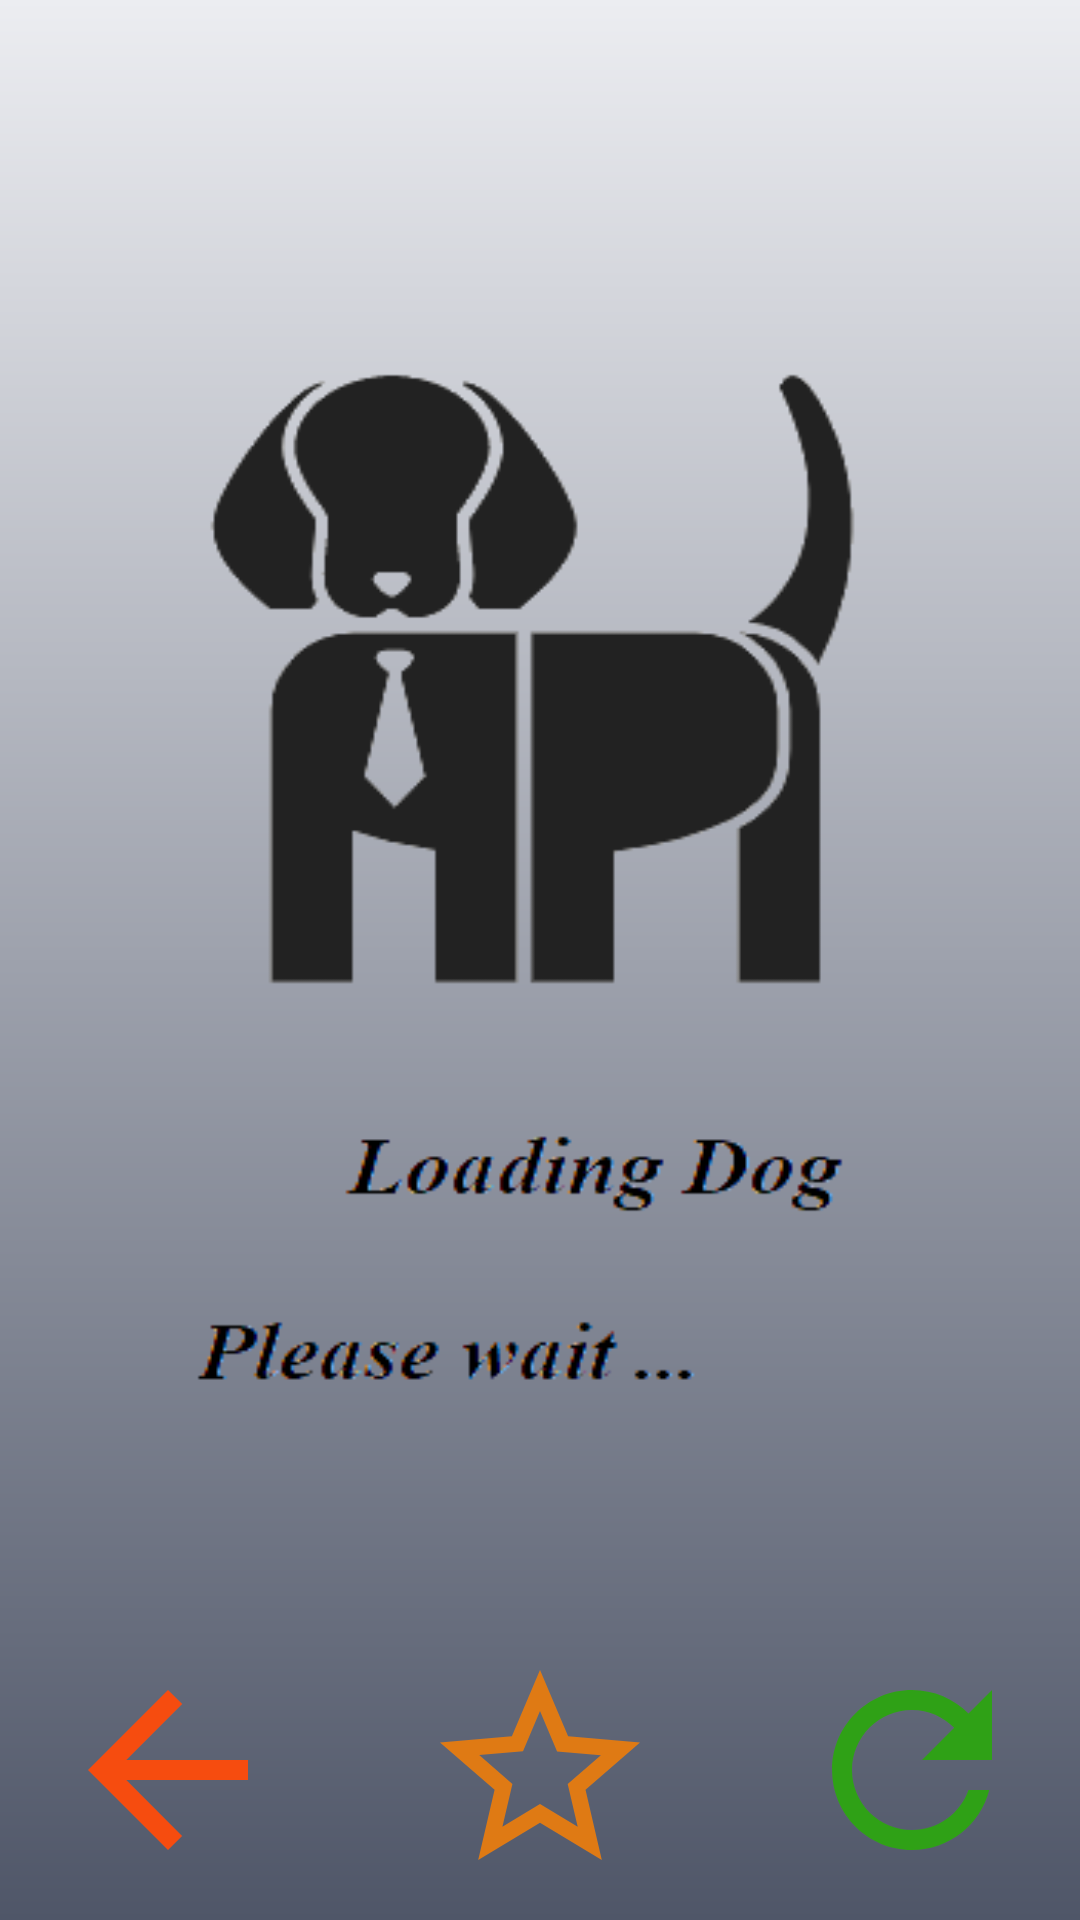

Icon bounding boxes for this 1080px×1920px phone screenshot, format (x1, y1, x2, y2):
arrow back: (88, 1690, 248, 1850)
refresh: (792, 1650, 1032, 1850)
star empty: (420, 1650, 660, 1860)
